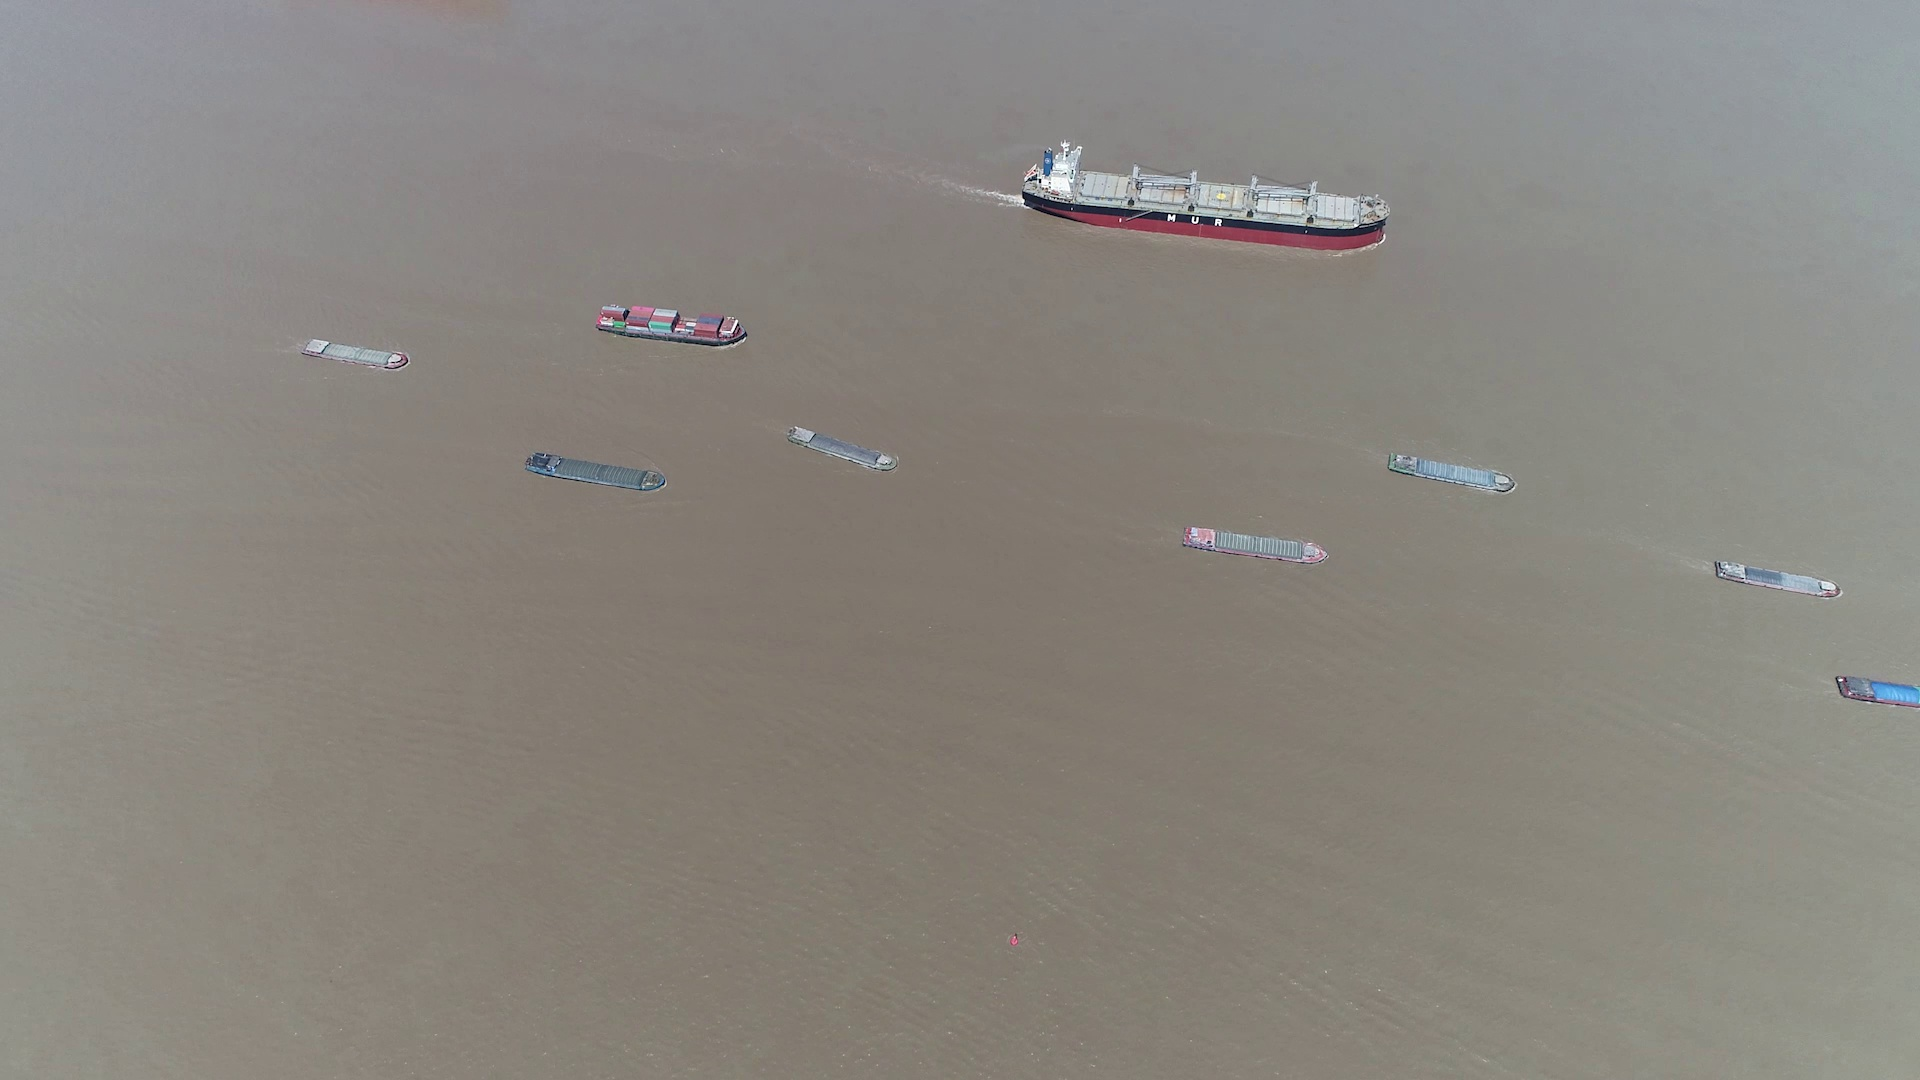ship: (1022, 146, 1389, 248), (593, 303, 749, 345), (525, 452, 666, 495), (1183, 527, 1327, 566), (789, 426, 897, 475), (1389, 454, 1515, 495), (1714, 559, 1840, 597), (301, 338, 407, 371), (1836, 674, 1919, 711)
